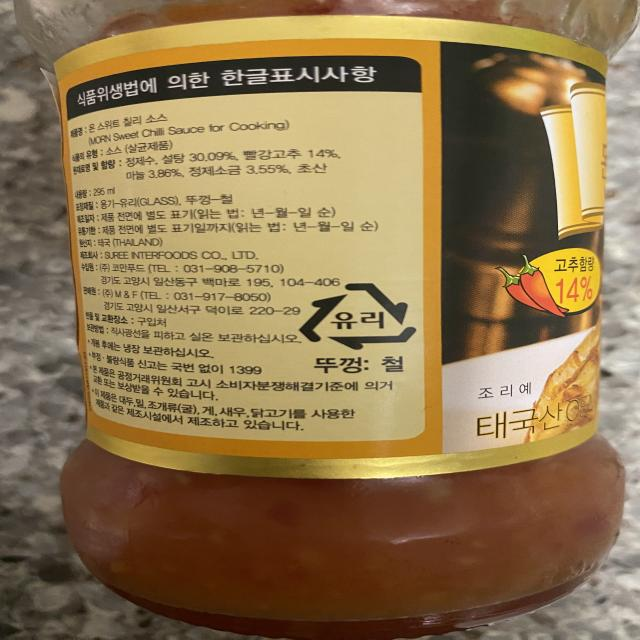Glass: (298, 280, 418, 350)
